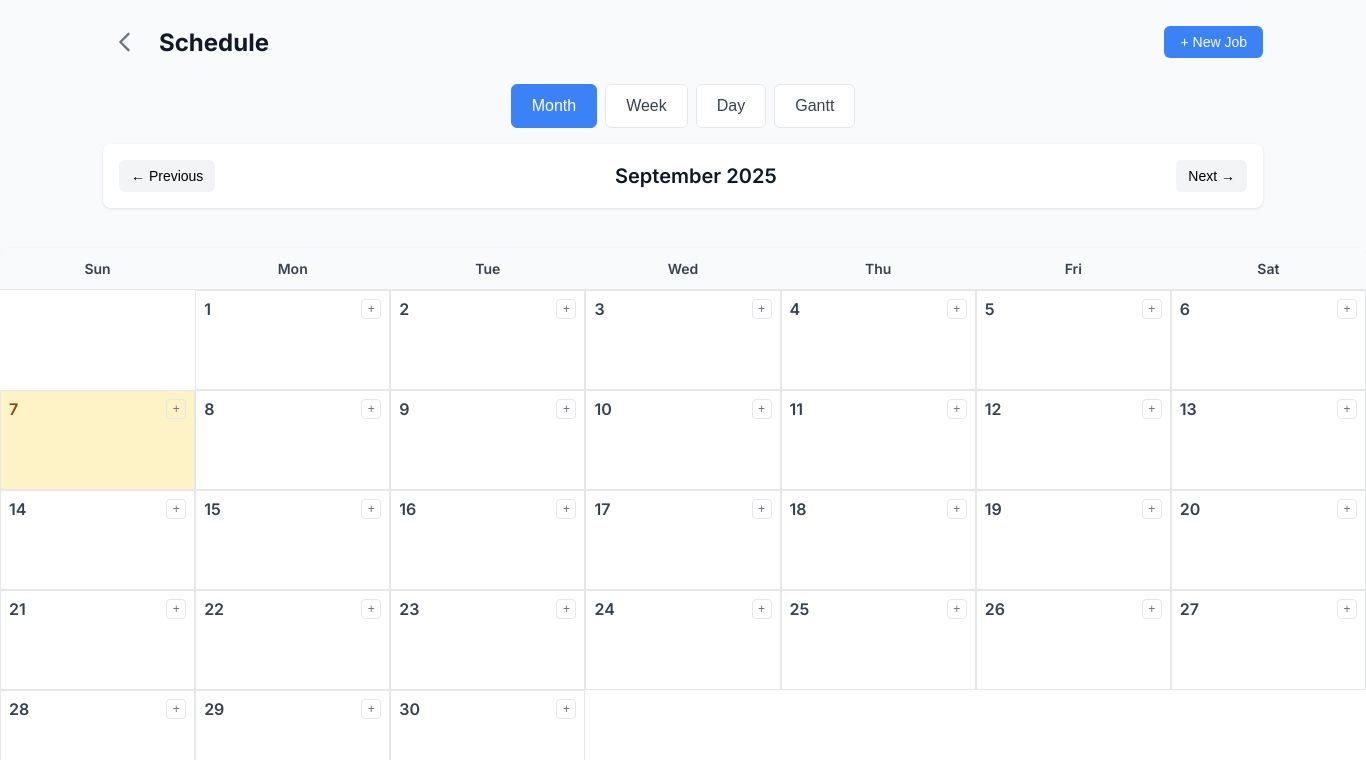
Test: Calendar Views › switches to day view when clicked
The image size is (1366, 760).
// Click day button
Click the button "day": (731, 106) [696, 84, 766, 128]
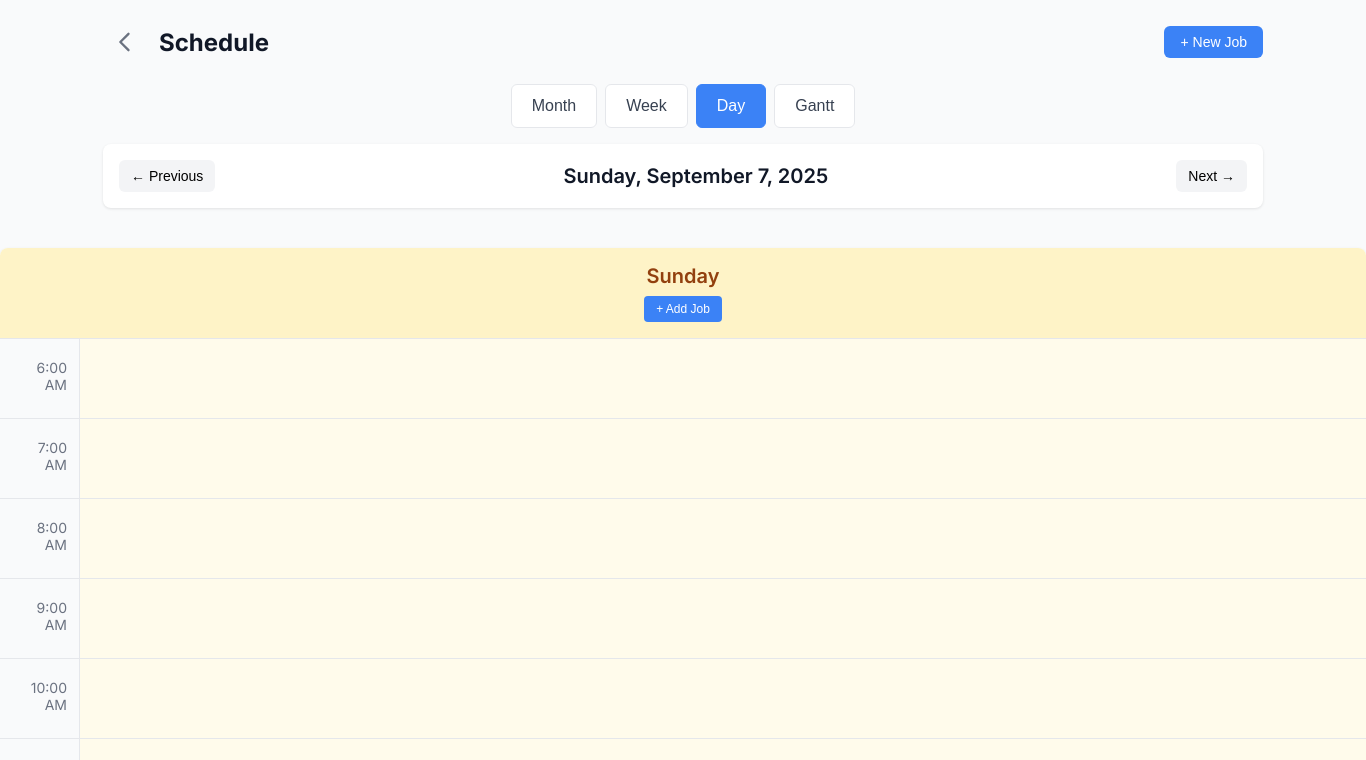
Check: the text "8:00 AM" is shown, box [0, 499, 80, 578]
Check: the button "+ Add Job" is shown, box [644, 296, 722, 322]
